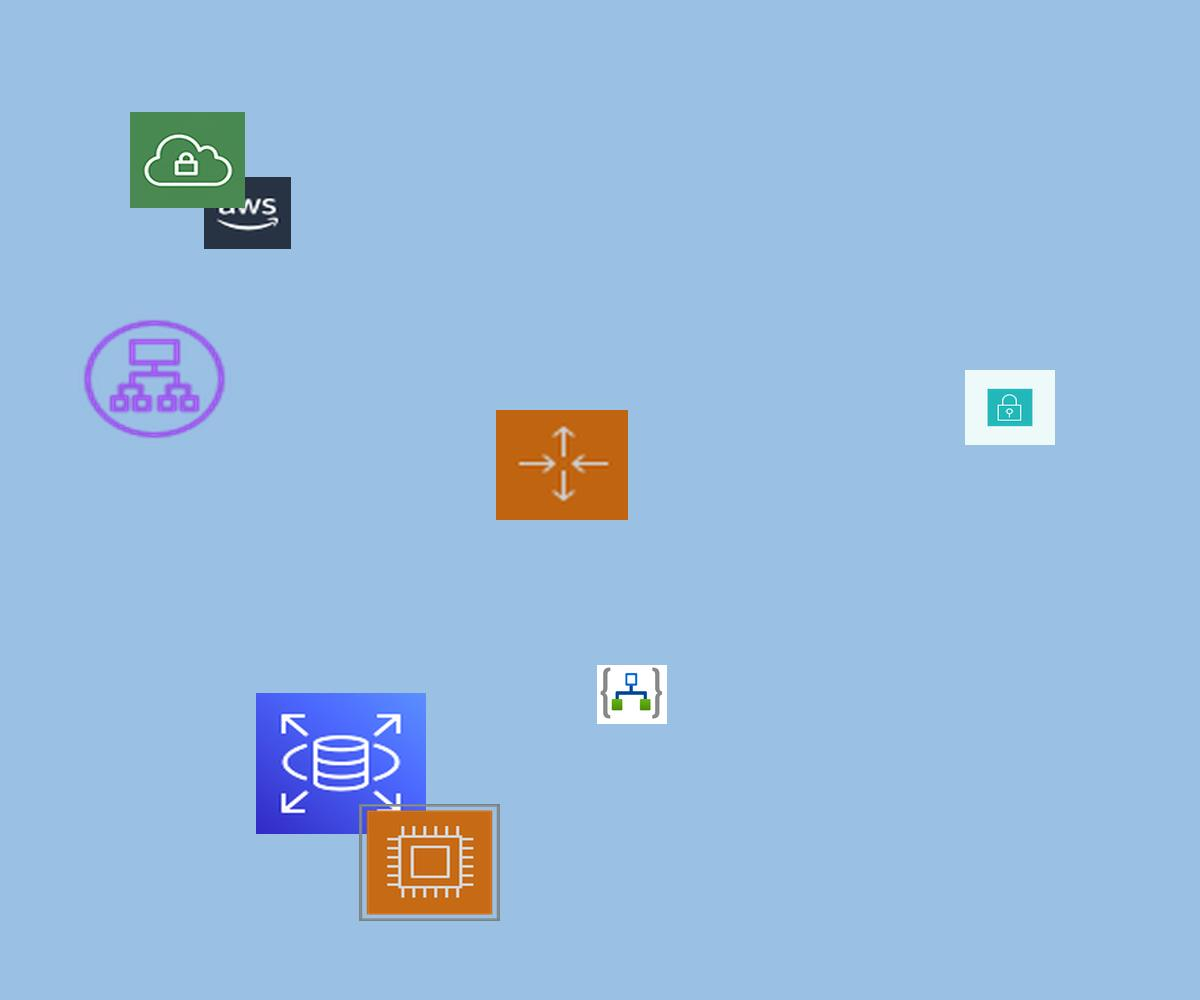AWS-Category_Compute: (359, 804, 500, 921)
AWS-Cloud-logo: (204, 177, 291, 249)
AWS-Private-subnet: (965, 370, 1055, 445)
AWS-Private_vpc: (130, 112, 245, 208)
AWS-RDS: (256, 693, 426, 834)
AWS-Res_Elastic-Load-Balancing_Application-Load-Balancer: (78, 315, 231, 443)
AWS-Scaling-group: (496, 410, 628, 520)
Azure_integration-204-Logic-Apps: (597, 665, 667, 724)
